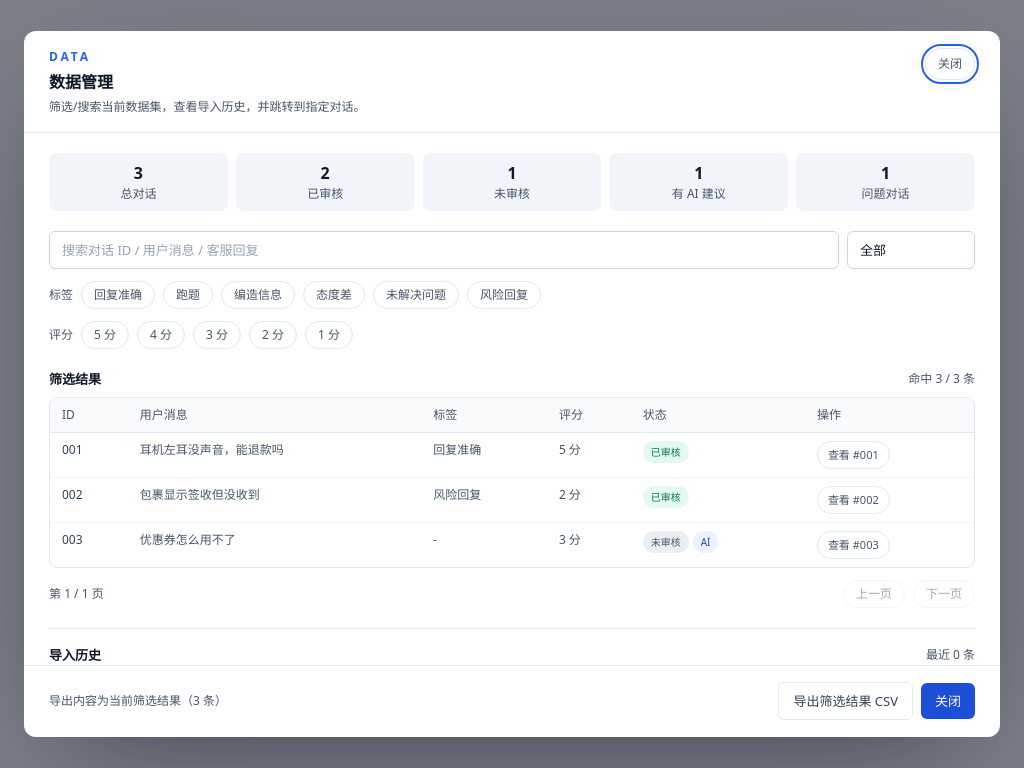
Test: DataManagerPanel 筛选 › 状态筛选：仅未审核 → 只显示 003
Select "未审核" in the dropdown named "审核状态" at x=911, y=250, box [847,231,975,269]
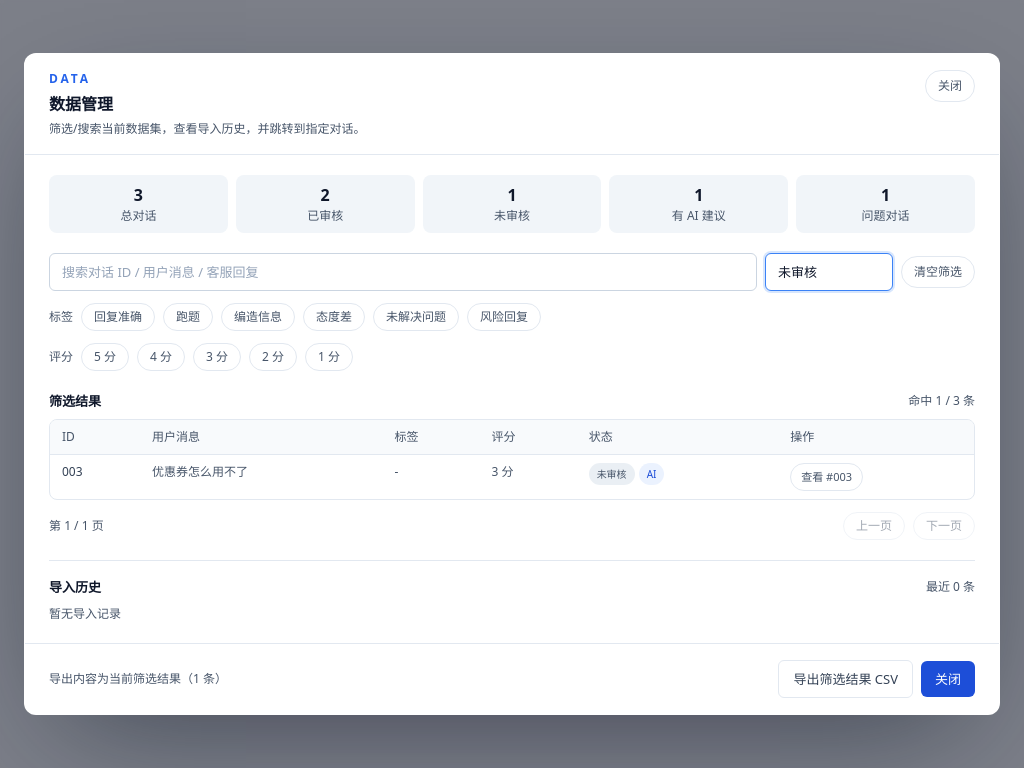
Expected: the button "查看 #003" is shown, [790,463,863,491]
Now the button "查看 #001" is gone
